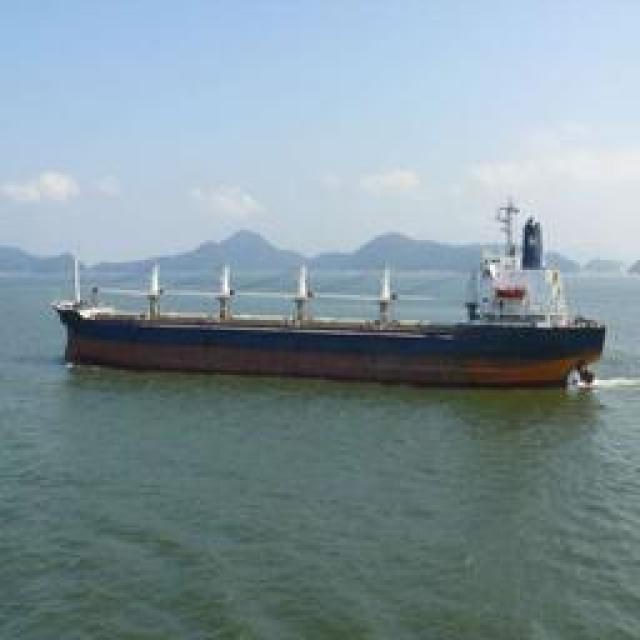CIV_Ship: (56, 276, 612, 386)
